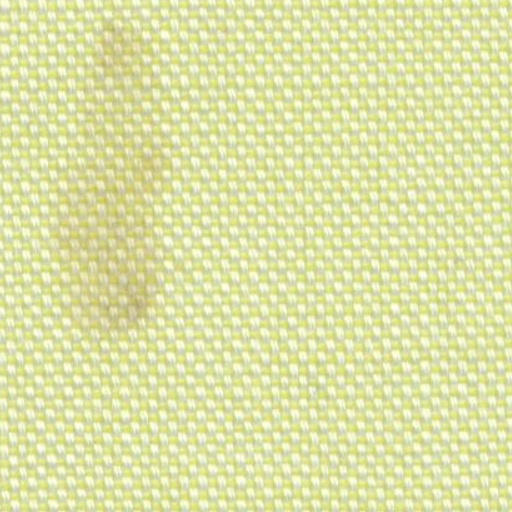WuZi: (41, 19, 204, 346)
